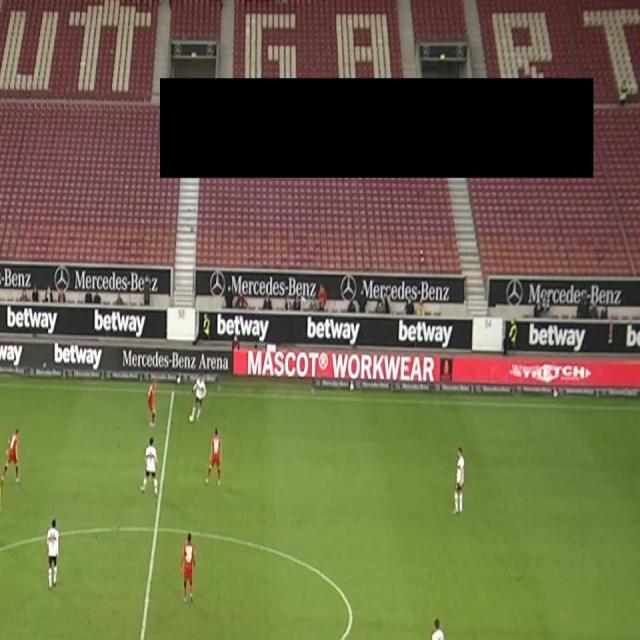ball: (188, 414, 194, 424)
